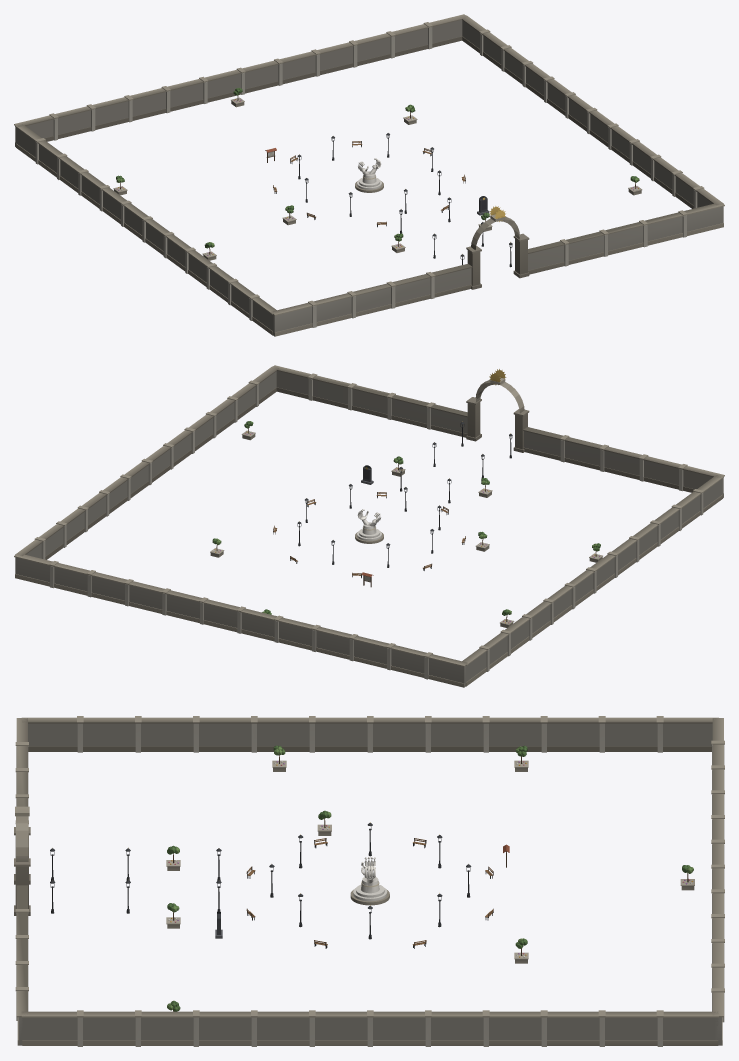
Rendered from town-street.glb.
3 renders of one model, top to bottom at view 1: azimuth 30°, elevation 25°; view 2: azimuth 150°, elevation 25°; view 3: azimuth 270°, elevation 25°, orthographic. The views are drawn at different scales.
Visible parts, largest first — view 1: town-street; view 2: town-street; view 3: town-street.
Part boxes in pixels (x1,y1,x2,y2): town-street: (14,14,724,336); town-street: (14,365,724,687); town-street: (14,716,724,1046).
Size of the model in its own units: 93.8 by 14.57 by 94.
